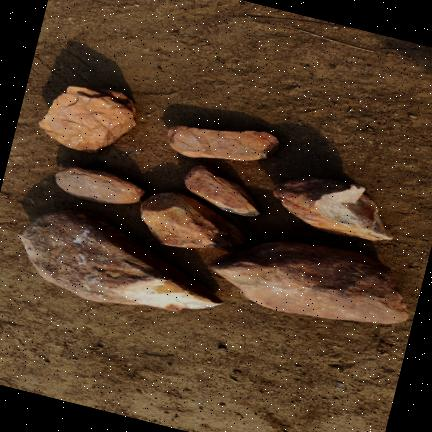Rocks: (18, 211, 220, 310), (210, 242, 407, 323), (273, 177, 391, 240), (39, 84, 135, 152), (140, 193, 245, 248), (167, 126, 277, 161), (183, 166, 258, 216), (54, 164, 143, 204)
